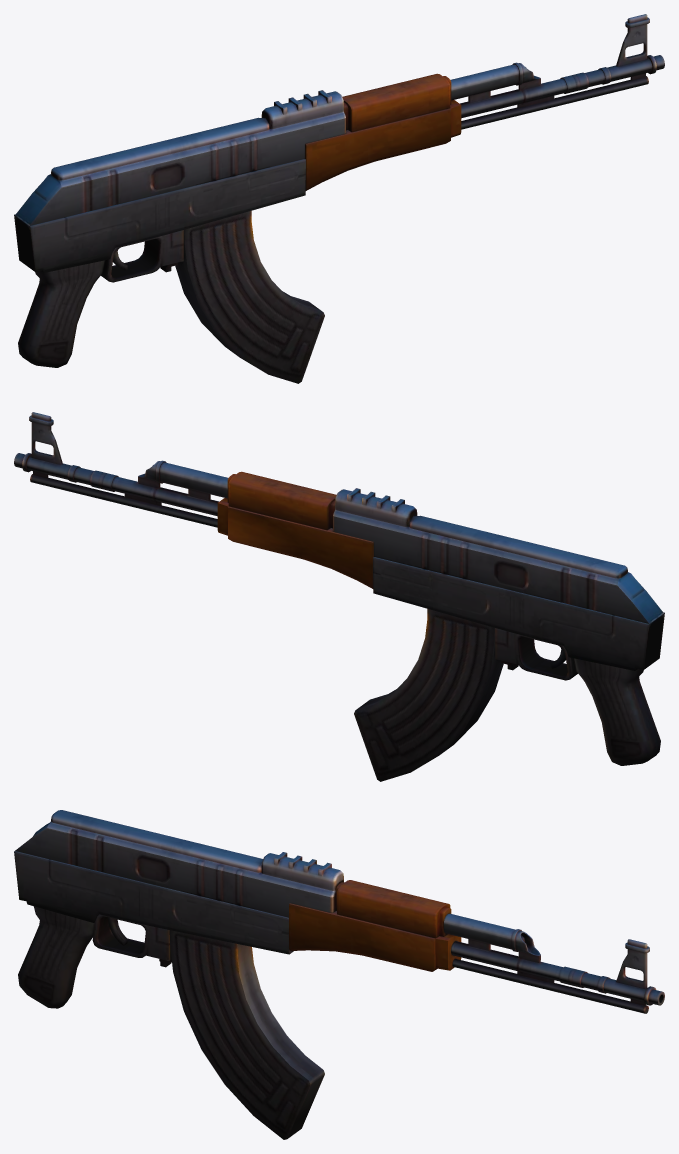
The model's file is ak47variant.glb.
The picture shows the model from 3 angles, top to bottom: view 1: azimuth 30°, elevation 25°; view 2: azimuth 150°, elevation 25°; view 3: azimuth 330°, elevation 25°; orthographic projection.
Parts seen in each view (by area): view 1: ak47variant, akmagazine_low.001; view 2: ak47variant, akmagazine_low.001; view 3: ak47variant, akmagazine_low.001.
Boxes of the visible parts, box(x1,y1,x2,y2) form: ak47variant: box(14, 14, 664, 367); akmagazine_low.001: box(175, 210, 324, 383); ak47variant: box(14, 412, 664, 765); akmagazine_low.001: box(354, 608, 503, 781); ak47variant: box(14, 810, 664, 1013); akmagazine_low.001: box(169, 930, 324, 1139).
Size of the model in its own units: 0.5438 by 0.2256 by 0.0253.
1 material, 1 textured.
